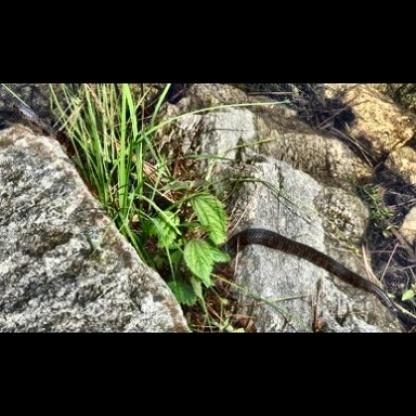Snake: (210, 225, 413, 320), (7, 98, 78, 150)
